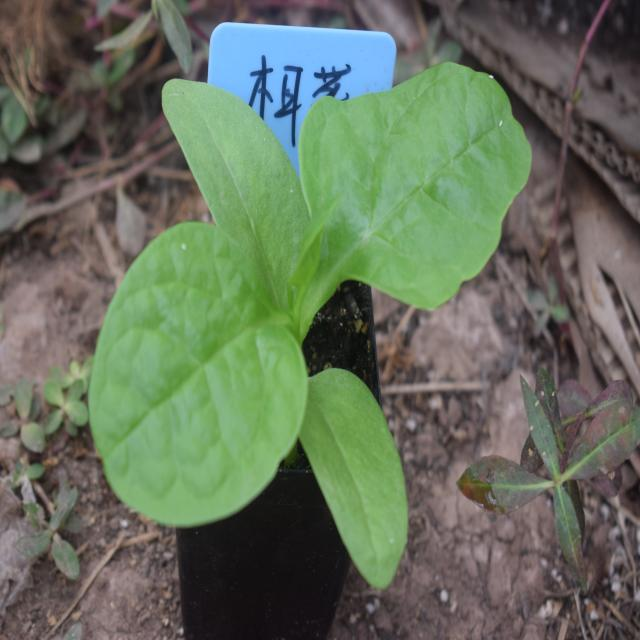Ceylon spinach: (106, 10, 517, 591)
